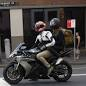helmets: (29, 20, 49, 34), (48, 17, 62, 29)
